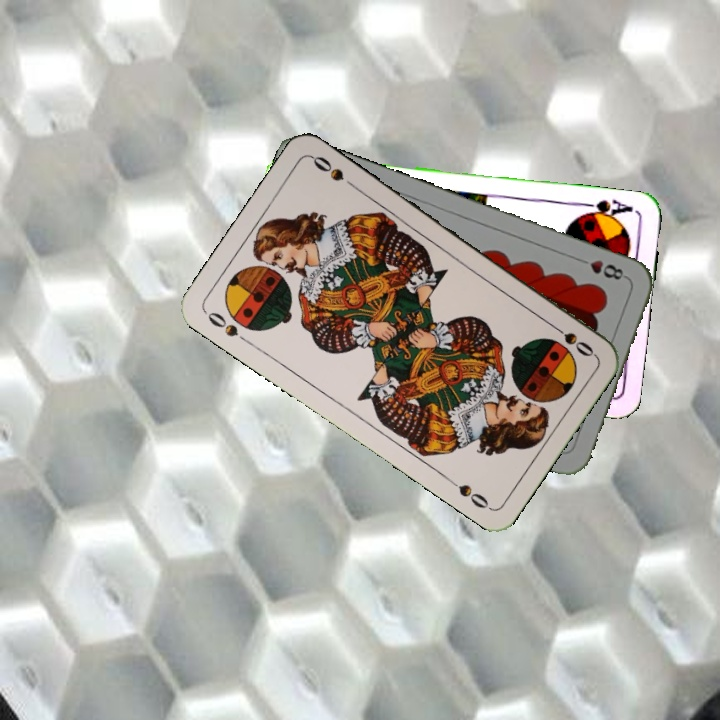H8: (573, 254, 630, 283)
SA: (577, 195, 636, 223)
SO: (546, 319, 598, 360), (201, 307, 253, 347)
